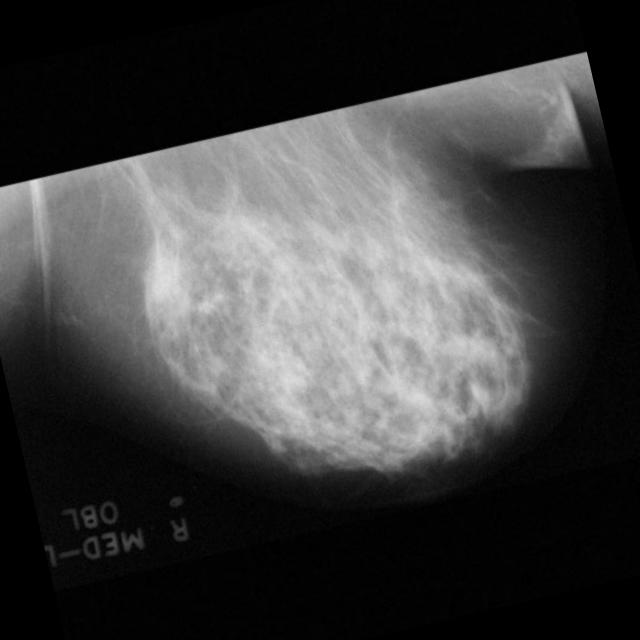MISC: (112, 227, 212, 327)
